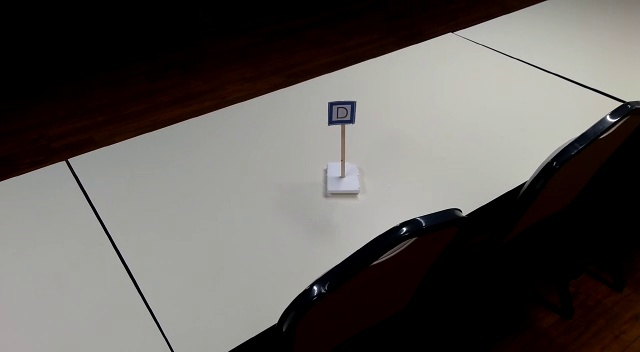durak: (326, 100, 355, 125)
